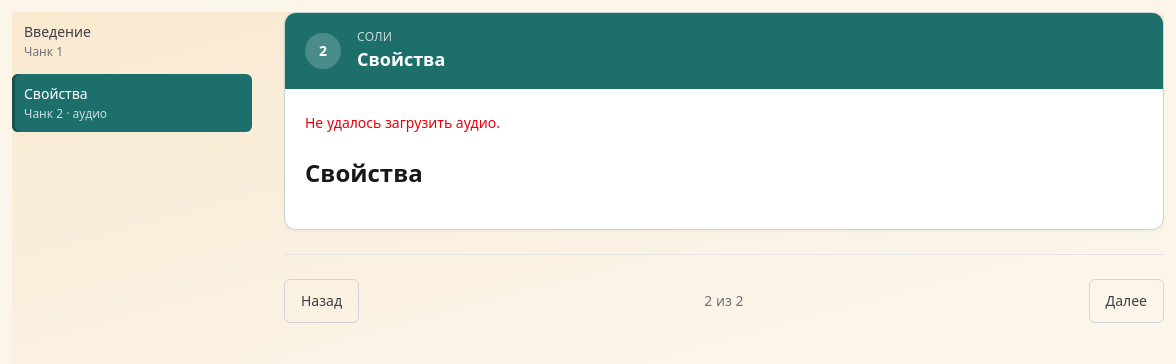
Test: ChunkViewer › does not open neuroquiz from sidebar or Назад when enabled
Expected: the heading "Свойства" below "Соли" is shown, [357,45,445,73]
Step 1. Click the button "Назад" → (322, 301), box [284,279,359,323]
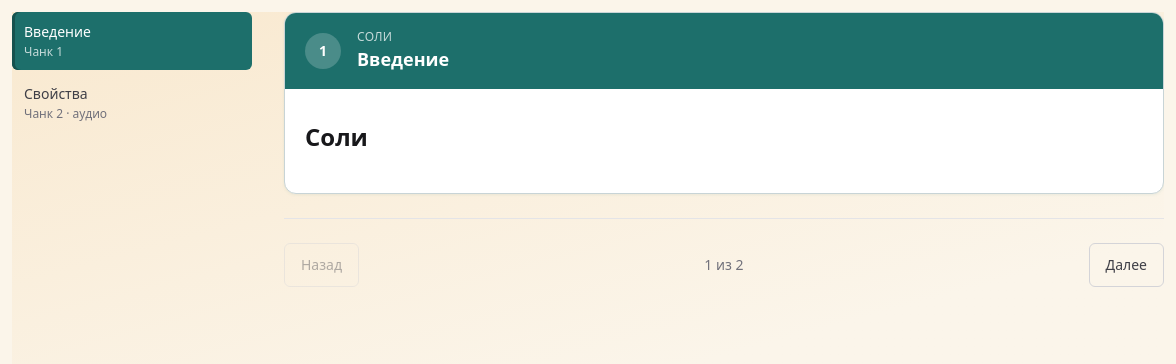
Result: the heading "Введение" is shown at [357,45,449,73]
Step 2. Click the button "Свойства Чанк 2 · аудио" → (132, 103), box [12,74,252,132]
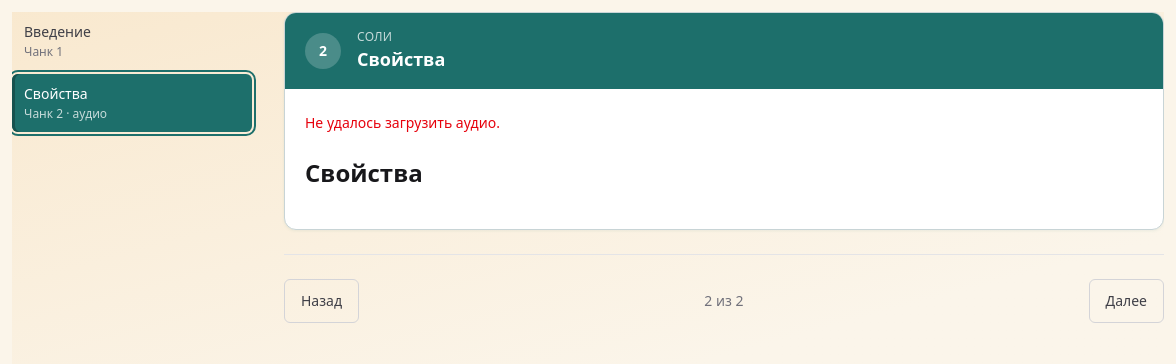
Result: the heading "Свойства" below "Соли" is shown at [357,45,445,73]
